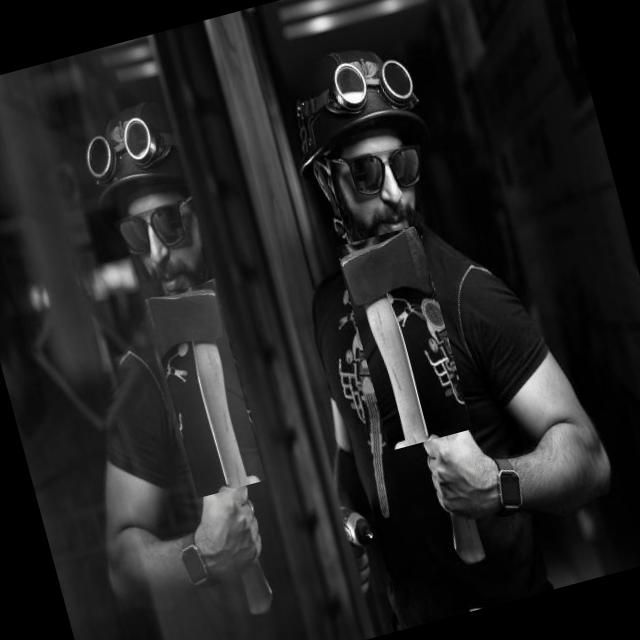Axe: (339, 227, 433, 442), (146, 289, 242, 488)
